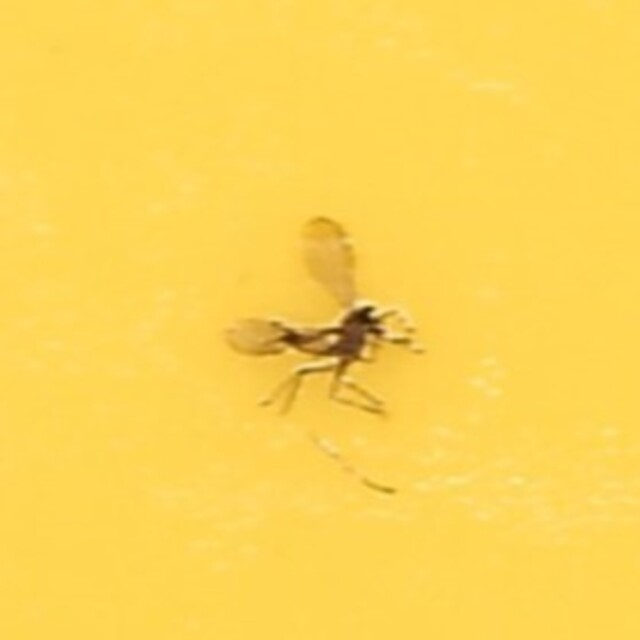Nematocera: (229, 213, 411, 427)
